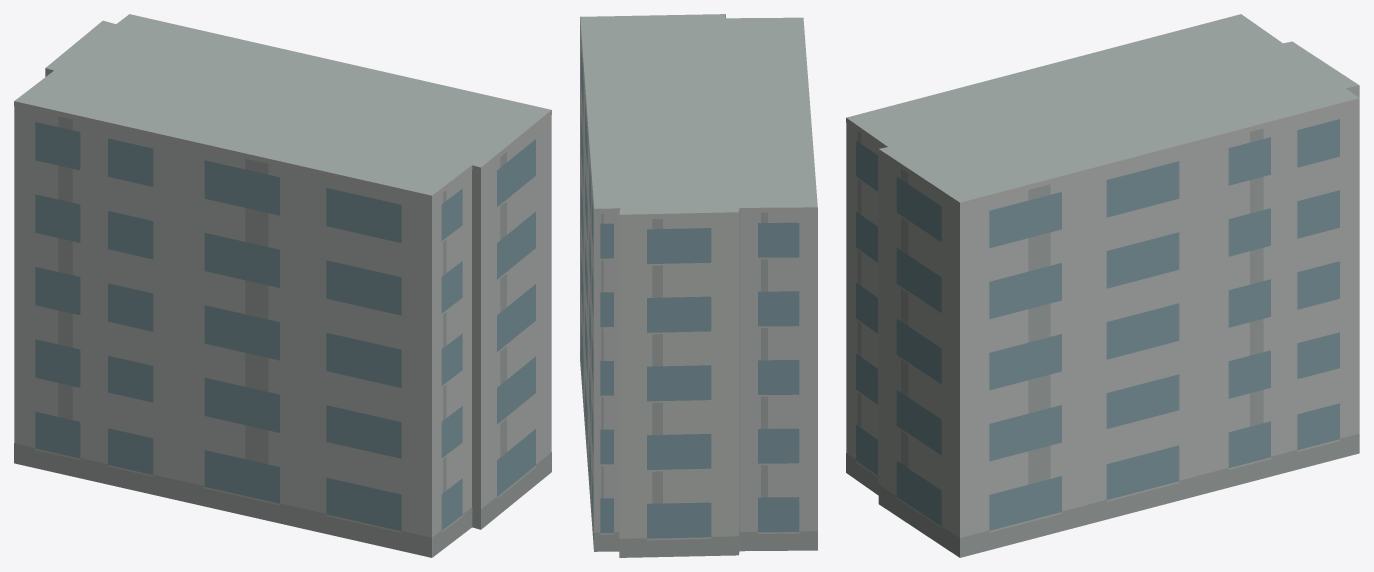
The model's file is survey-upis-32629796.glb.
3 renders of one model, left to right at view 1: azimuth 30°, elevation 25°; view 2: azimuth 150°, elevation 25°; view 3: azimuth 270°, elevation 25°, orthographic. The views are drawn at different scales.
Visible parts, largest first — view 1: survey-upis-32629796.tmp; view 2: survey-upis-32629796.tmp; view 3: survey-upis-32629796.tmp.
Part boxes in pixels (bbox=[...]): survey-upis-32629796.tmp: bbox=[14, 14, 551, 557]; survey-upis-32629796.tmp: bbox=[580, 14, 817, 557]; survey-upis-32629796.tmp: bbox=[846, 14, 1359, 557].
Size of the model in its own units: 19.28 by 16.92 by 22.18.
